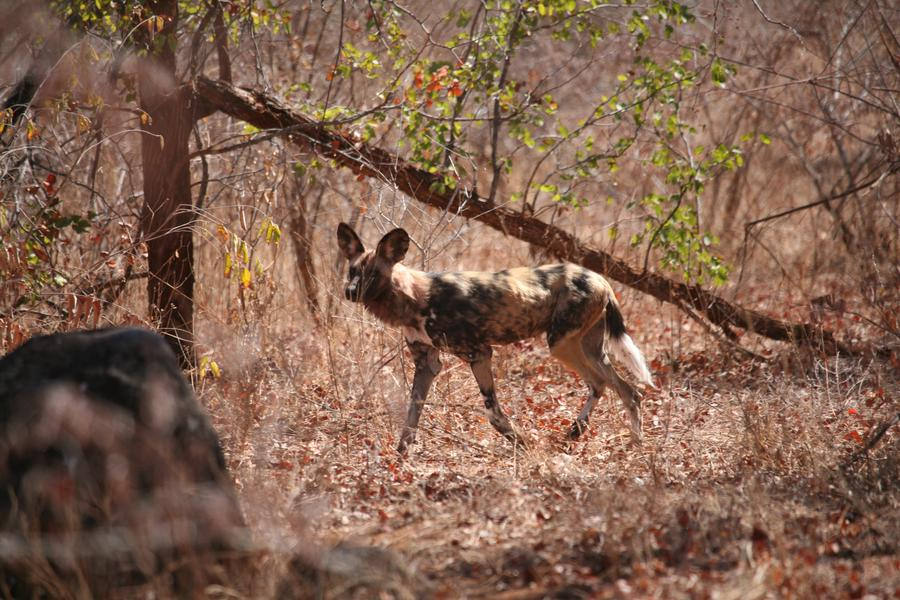wilddog: (314, 220, 640, 407)
